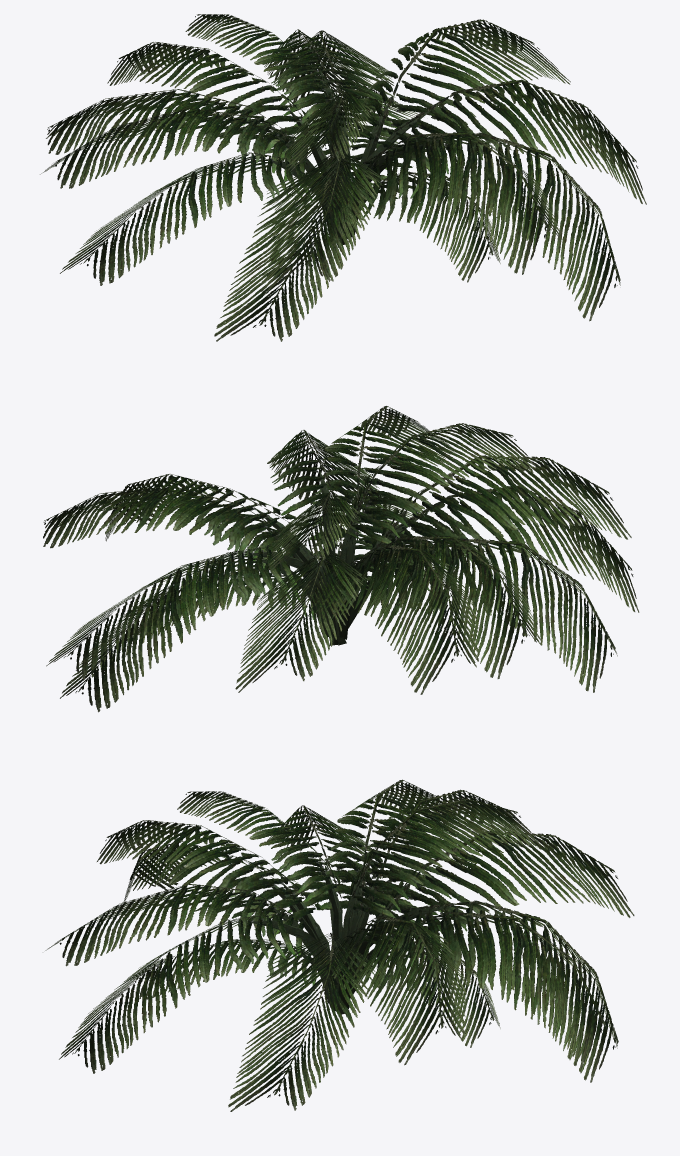
File: blad.obj
3 views of the same model, one above another, from view 1: azimuth 30°, elevation 25°; view 2: azimuth 150°, elevation 25°; view 3: azimuth 270°, elevation 25° (orthographic). The views are drawn at different scales.
Parts seen in each view (by area): view 1: blad_1; view 2: blad_1; view 3: blad_1.
Boxes of the visible parts, box(x1,y1,x2,y2) form: blad_1: box(40, 14, 646, 341); blad_1: box(43, 406, 639, 712); blad_1: box(45, 779, 634, 1111).
Bounding box in the file's own units: 168 × 64.5 × 170.
